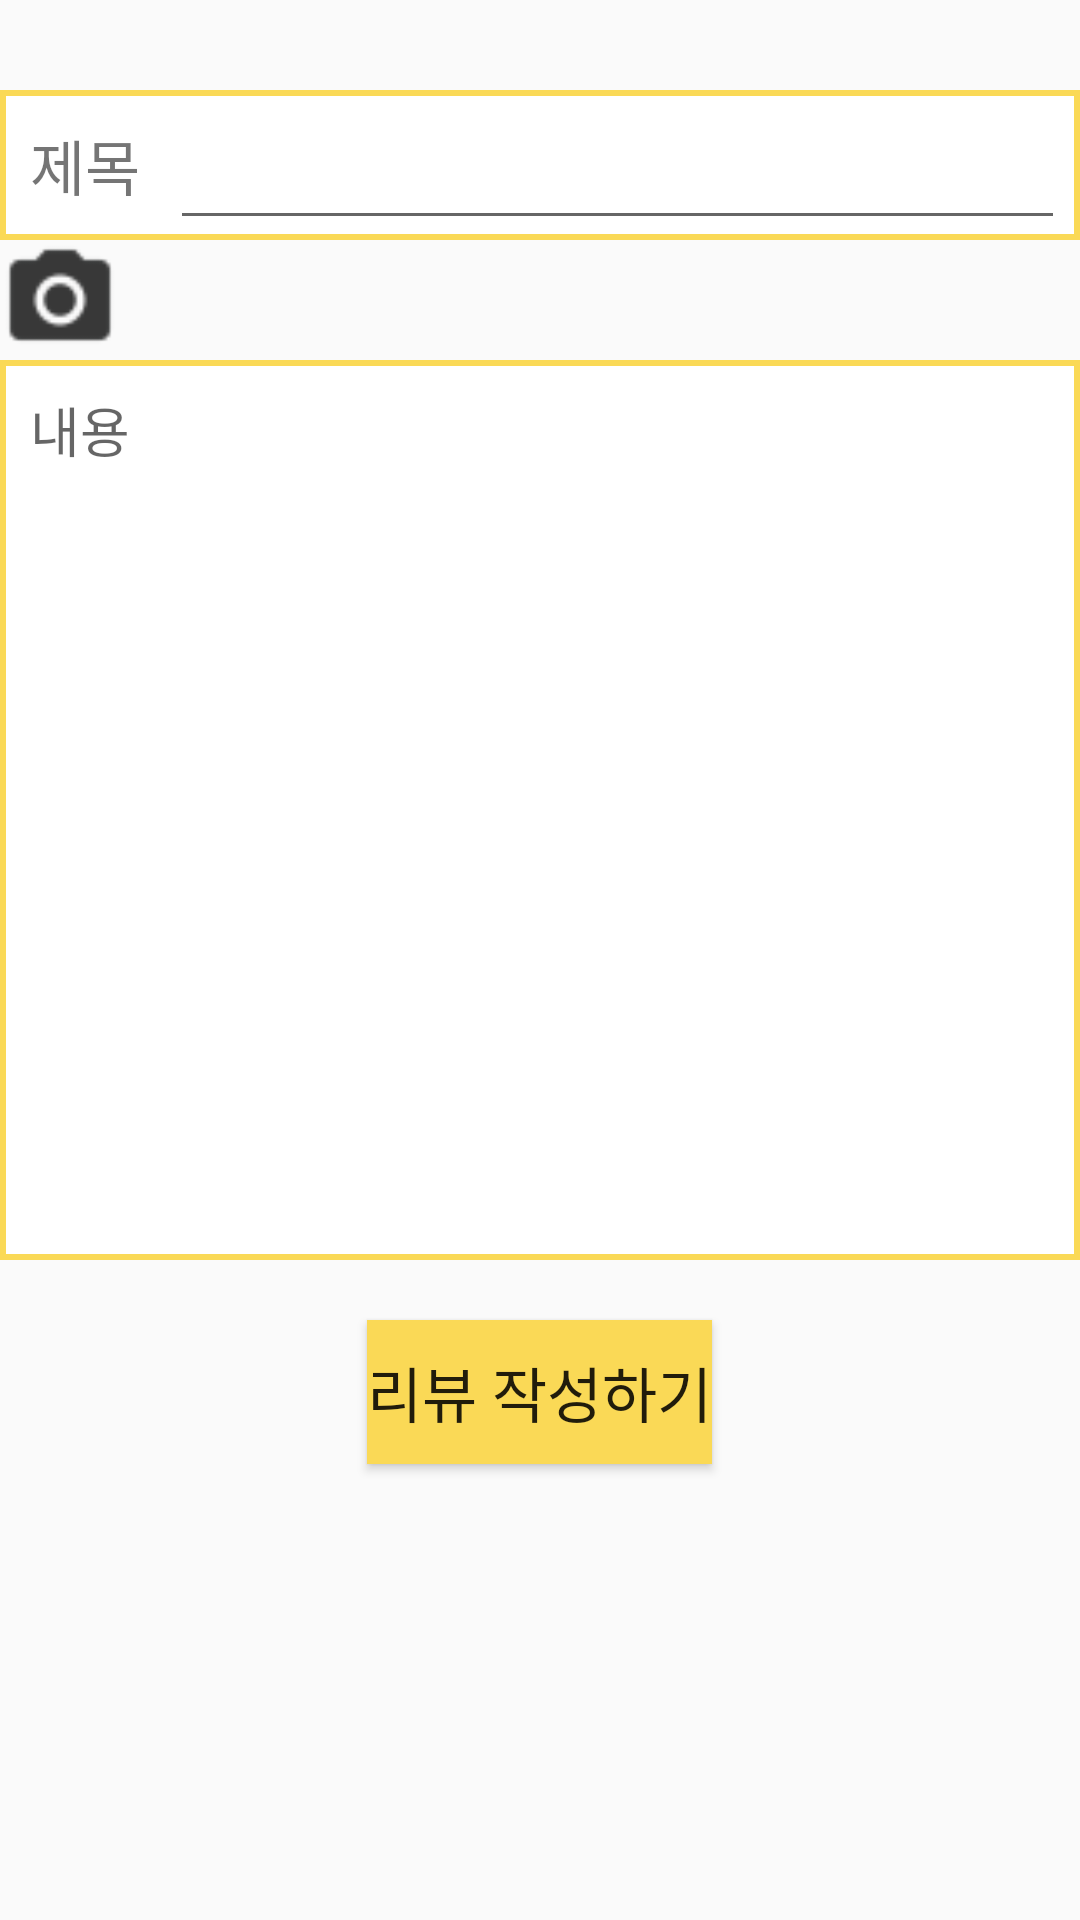

Locate icon controls on the screen. Image size 1080×1920, boxes as (x1, y1, x2, y2).
camera: (9, 249, 111, 341)
